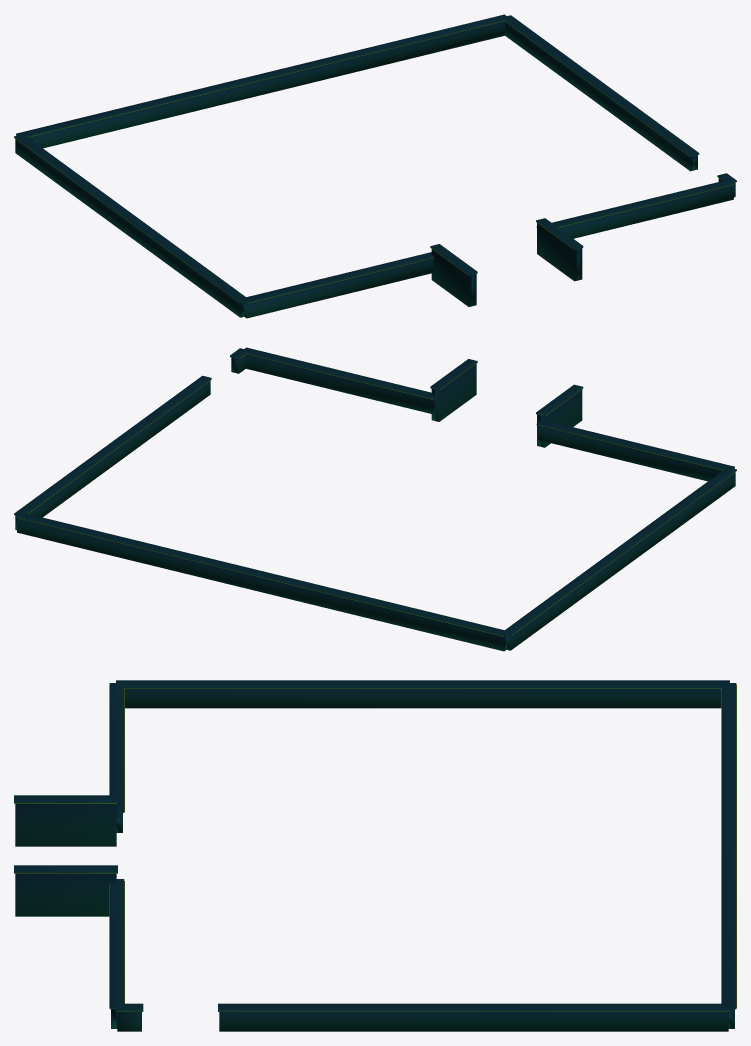
The model's file is court_balustrades.glb.
The picture shows the model from 3 angles, top to bottom: view 1: azimuth 30°, elevation 25°; view 2: azimuth 150°, elevation 25°; view 3: azimuth 270°, elevation 25°; orthographic projection. The views are drawn at different scales.
Visible parts, largest first — view 1: court_balustrades; view 2: court_balustrades; view 3: court_balustrades.
Part boxes in pixels (box(x1,y1,x2,y2)): court_balustrades: box(14, 14, 736, 318); court_balustrades: box(14, 347, 736, 651); court_balustrades: box(14, 680, 736, 1031).
Size of what is drawn, in the model's own units: 30.63 by 1.97 by 28.35.
